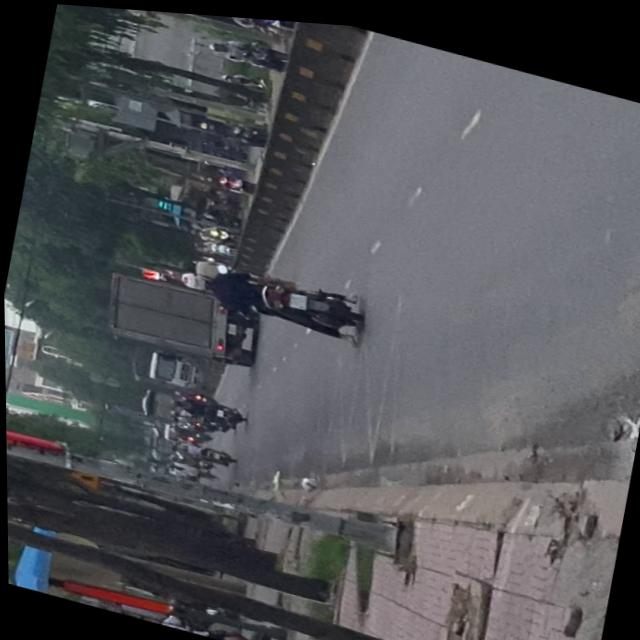helmet: (177, 266, 210, 291)
licenseplate: (172, 245, 365, 343)
nohelmet: (286, 287, 304, 306)
